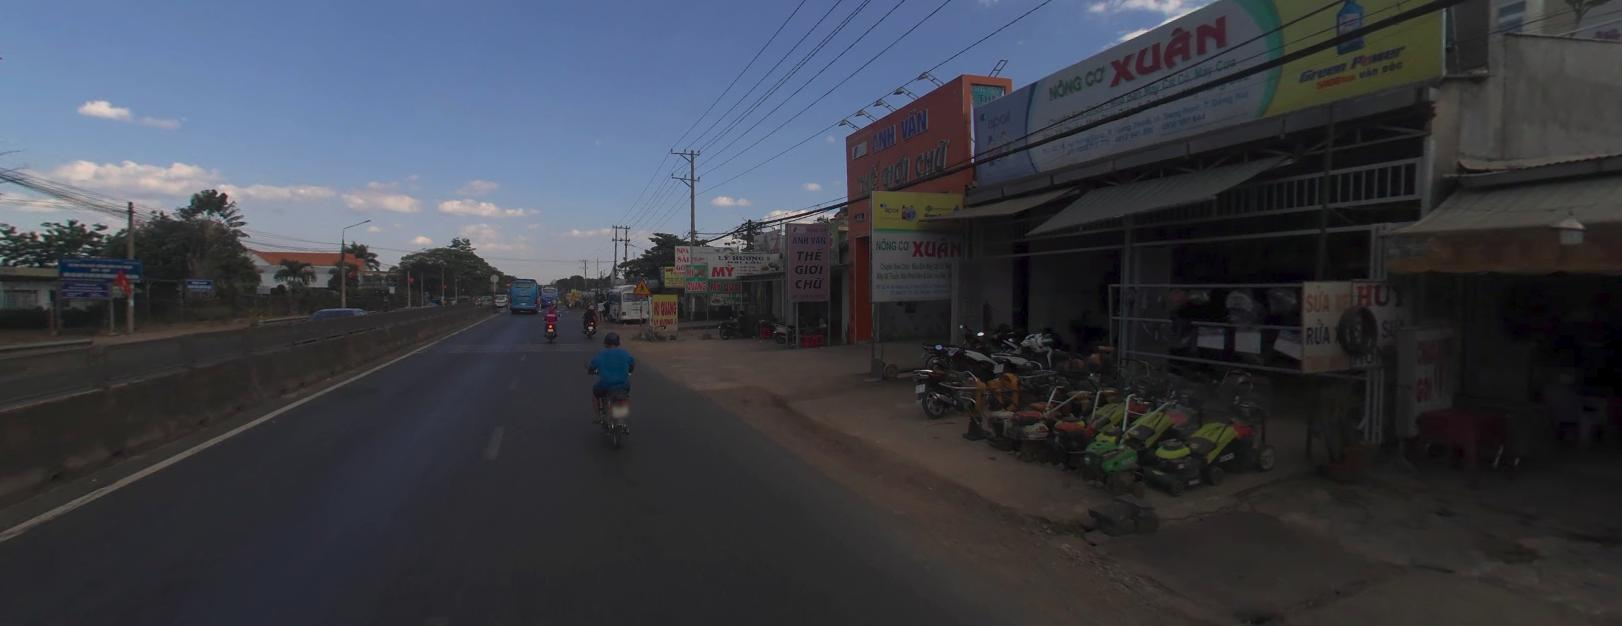Cam nguoc chieu: (506, 280, 512, 285)
Hieu lenh: (506, 286, 511, 291)
Nguy hiem: (632, 277, 651, 294), (632, 277, 651, 293), (632, 278, 651, 293), (632, 277, 650, 292)
